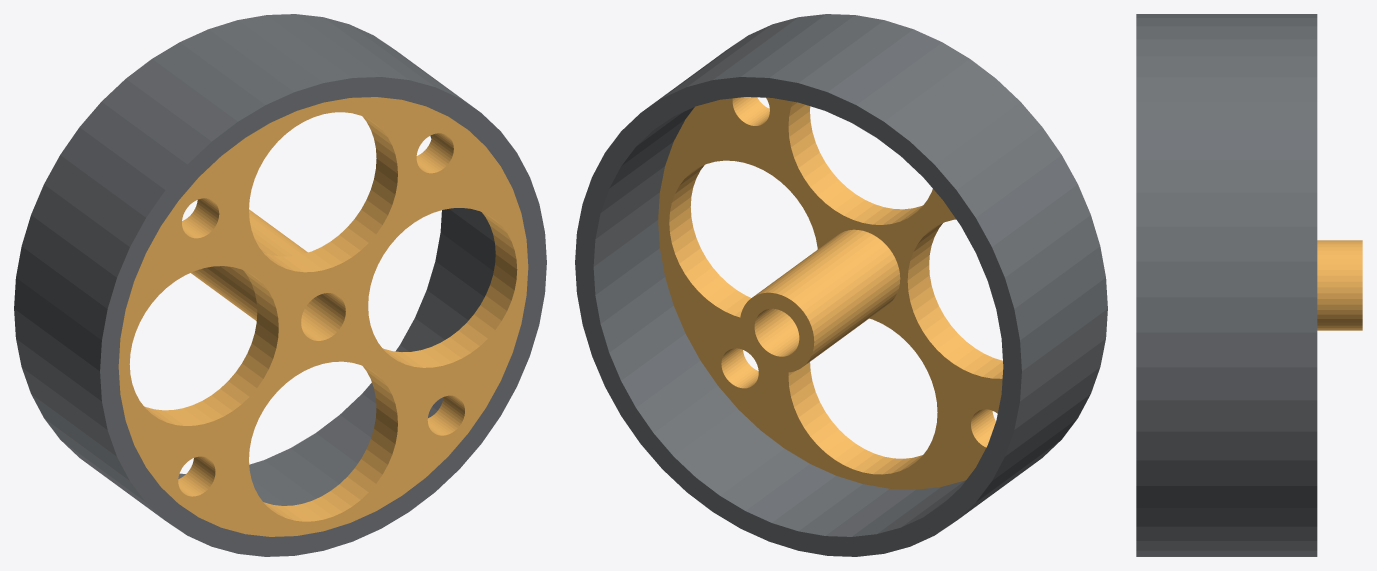
The model's file is RWheelLarge.dae.
3 views of the same model, side by side, from view 1: azimuth 30°, elevation 25°; view 2: azimuth 150°, elevation 25°; view 3: azimuth 270°, elevation 25° (orthographic). The views are drawn at different scales.
Parts seen in each view (by area): view 1: obj_0.001; view 2: obj_0.001; view 3: obj_0.001.
Boxes of the visible parts, box(x1,y1,x2,y2) form: obj_0.001: box(14, 14, 546, 556); obj_0.001: box(575, 14, 1107, 556); obj_0.001: box(1136, 14, 1362, 556).
Bounding box in the file's own units: 0.6 × 0.25 × 0.6.
